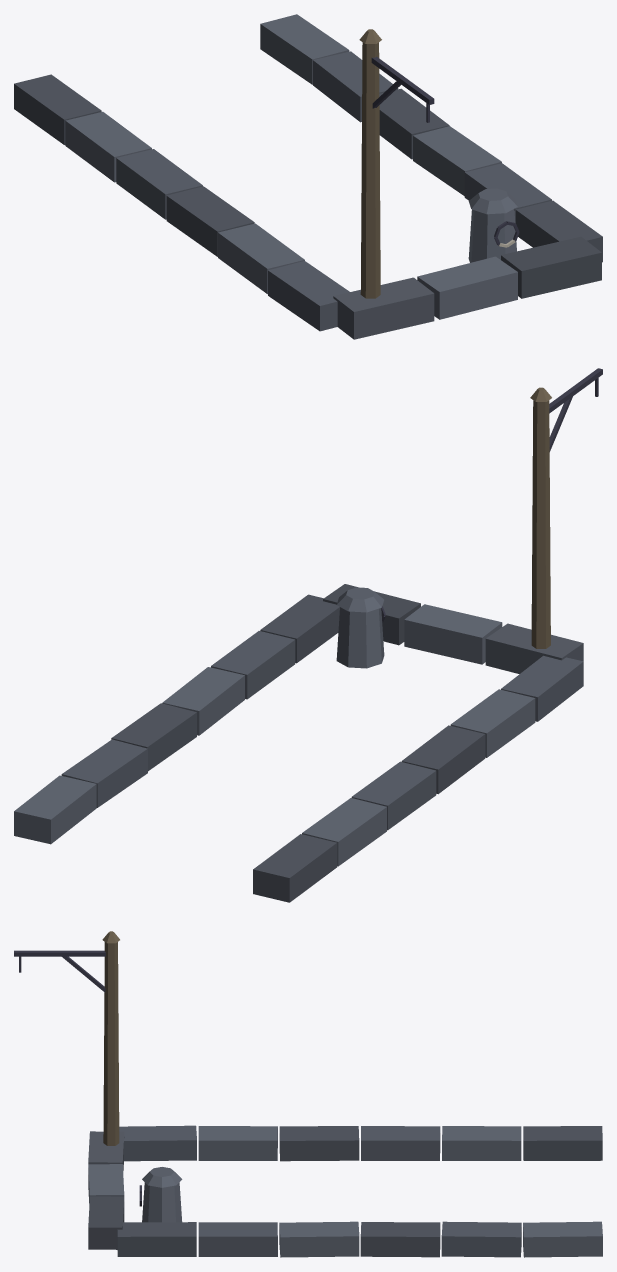
The model's file is boat_stage.glb.
3 renders of one model, top to bottom at view 1: azimuth 30°, elevation 25°; view 2: azimuth 150°, elevation 25°; view 3: azimuth 270°, elevation 25°, orthographic. The views are drawn at different scales.
Parts seen in each view (by area): view 1: slate_d10, slate_d25, slate_d18, driftwood_d45, slate_d20, slate_d8, slate_d30, slate_d5, ink_l15, slate_d15; view 2: slate_d10, slate_d25, slate_d18, driftwood_d45, slate_d8, slate_d20, slate_d5, slate_d30, ink_l15, slate_d15; view 3: slate_d10, slate_d25, slate_d18, driftwood_d45, slate_d30, slate_d5, slate_d8, ink_l15, slate_d20, slate_d15.
Part boxes in pixels (x1=…): slate_d10: x1=65, y1=14, x2=501, y2=294; slate_d25: x1=14, y1=74, x2=602, y2=262; slate_d18: x1=116, y1=51, x2=551, y2=331; driftwood_d45: x1=359, y1=29, x2=381, y2=298; slate_d20: x1=333, y1=277, x2=434, y2=339; slate_d8: x1=417, y1=256, x2=517, y2=319; slate_d30: x1=501, y1=236, x2=601, y2=298; slate_d5: x1=468, y1=209, x2=516, y2=262; ink_l15: x1=371, y1=56, x2=519, y2=245; slate_d15: x1=468, y1=188, x2=517, y2=214; slate_d10: x1=14, y1=667, x2=535, y2=866; slate_d25: x1=111, y1=594, x2=485, y2=902; slate_d18: x1=61, y1=631, x2=583, y2=830; driftwood_d45: x1=530, y1=387, x2=551, y2=648; slate_d8: x1=404, y1=604, x2=502, y2=664; slate_d20: x1=485, y1=623, x2=583, y2=673; slate_d5: x1=336, y1=607, x2=384, y2=668; slate_d30: x1=323, y1=584, x2=420, y2=645; ink_l15: x1=381, y1=368, x2=602, y2=622; slate_d15: x1=336, y1=587, x2=383, y2=612; slate_d10: x1=198, y1=1126, x2=602, y2=1257; slate_d25: x1=117, y1=1126, x2=602, y2=1257; slate_d18: x1=119, y1=1125, x2=521, y2=1257; driftwood_d45: x1=102, y1=931, x2=119, y2=1145; slate_d30: x1=88, y1=1196, x2=124, y2=1249; slate_d5: x1=142, y1=1182, x2=182, y2=1222; slate_d8: x1=88, y1=1164, x2=124, y2=1204; ink_l15: x1=14, y1=950, x2=141, y2=1206; slate_d20: x1=88, y1=1131, x2=124, y2=1170; slate_d15: x1=142, y1=1167, x2=182, y2=1187.
Size of the model in its own units: 2.6 by 2.53 by 5.8.
